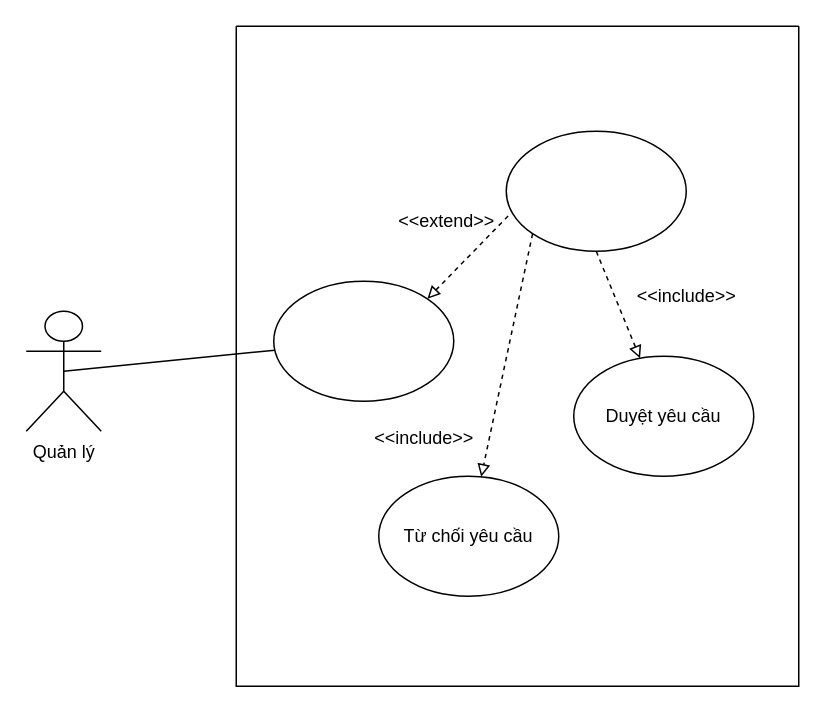
This 825x713 diagram has some shape labels left out. Each missing label, with the centre of its shape:
"Chọn 1 yêu cầu" belongs at (x=595, y=190).
"Xem yêu cầu" belongs at (x=363, y=340).
